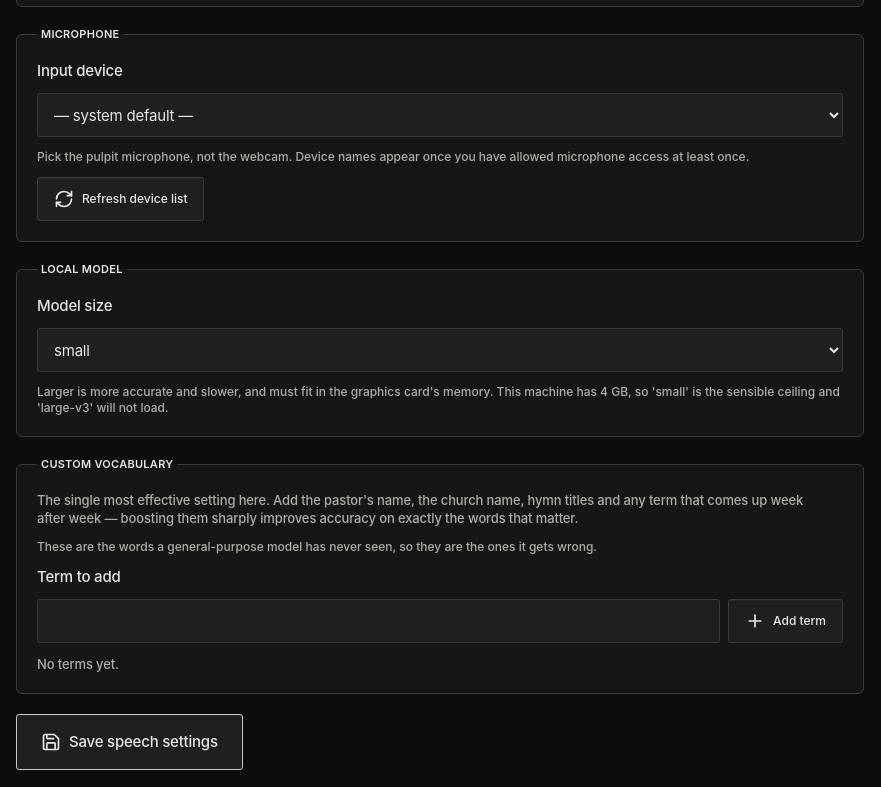
Test: AsrSettings › surfaces a refused save rather than claiming it worked
This screenshot has width=881, height=787.
(page scrolled)
Expected: the field labelled "Term to add" is shown, [37,599,720,643]
Click the button "Save speech settings". click: (129, 742)
box: [16,714,243,770]
(page scrolled)
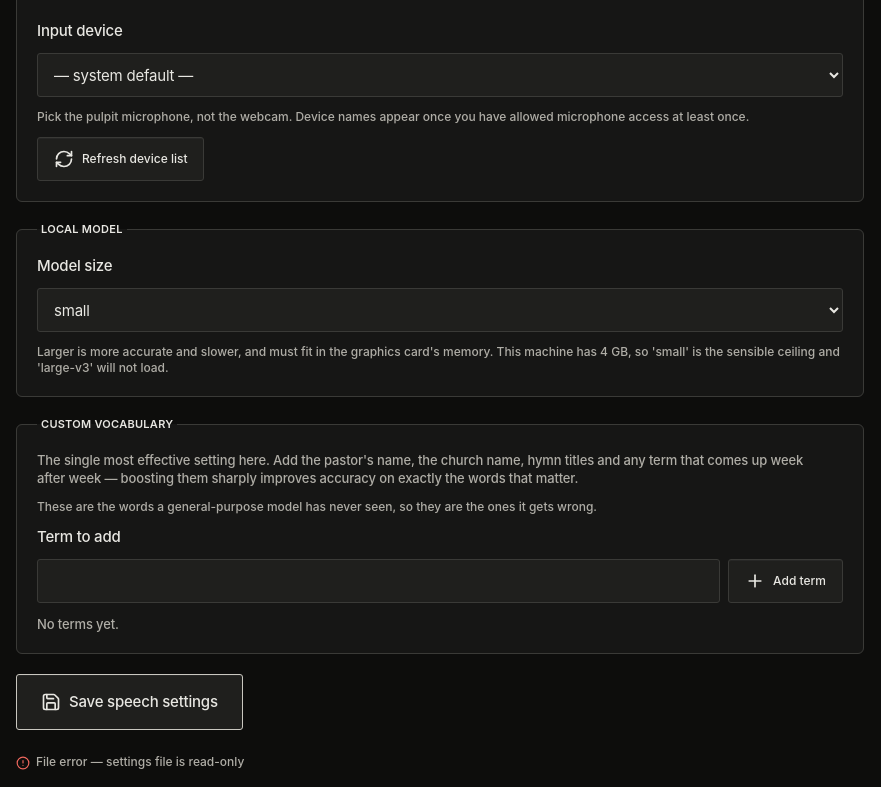
Result: the text "File error — settings file is read-only" is shown at [36,754,244,770]
